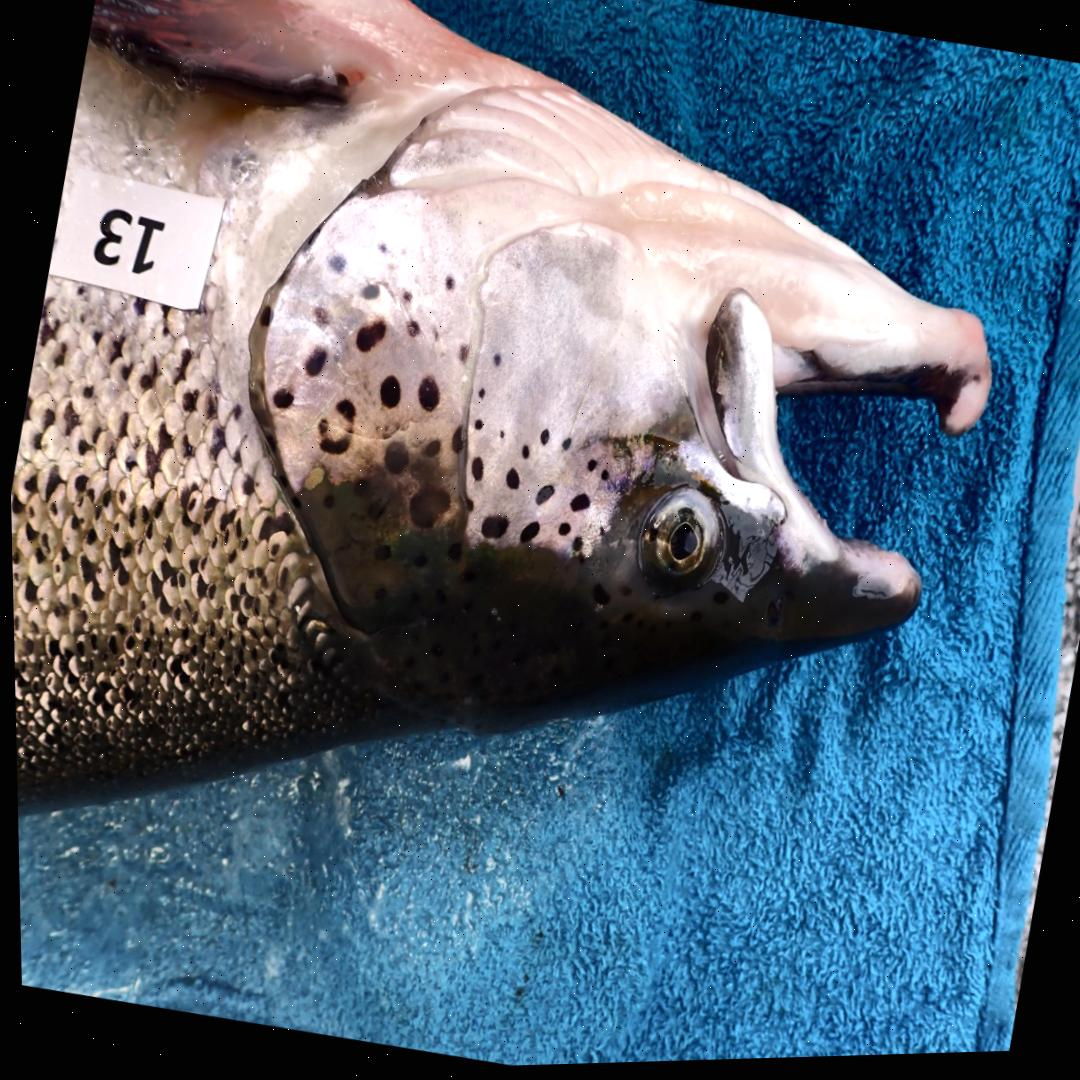spot: (312, 399, 353, 457), (406, 488, 447, 531), (353, 322, 384, 353), (381, 444, 407, 477), (415, 378, 437, 413), (376, 377, 399, 410), (307, 302, 331, 332), (323, 254, 347, 281), (302, 350, 324, 379), (478, 517, 504, 541), (270, 390, 291, 411), (517, 524, 536, 546), (357, 284, 379, 303), (532, 488, 552, 507), (566, 496, 587, 514), (403, 319, 420, 340), (468, 459, 481, 483), (503, 470, 517, 492), (420, 442, 437, 460), (394, 292, 411, 310), (448, 430, 460, 455), (454, 343, 467, 366), (258, 307, 270, 327), (441, 276, 454, 294), (374, 244, 389, 257), (426, 328, 437, 344), (569, 540, 579, 557), (555, 526, 567, 538), (537, 432, 546, 447), (495, 431, 504, 446), (584, 461, 593, 475), (489, 355, 498, 369), (559, 442, 569, 454), (518, 447, 526, 461), (597, 472, 606, 484), (471, 421, 480, 433), (474, 390, 483, 401)
